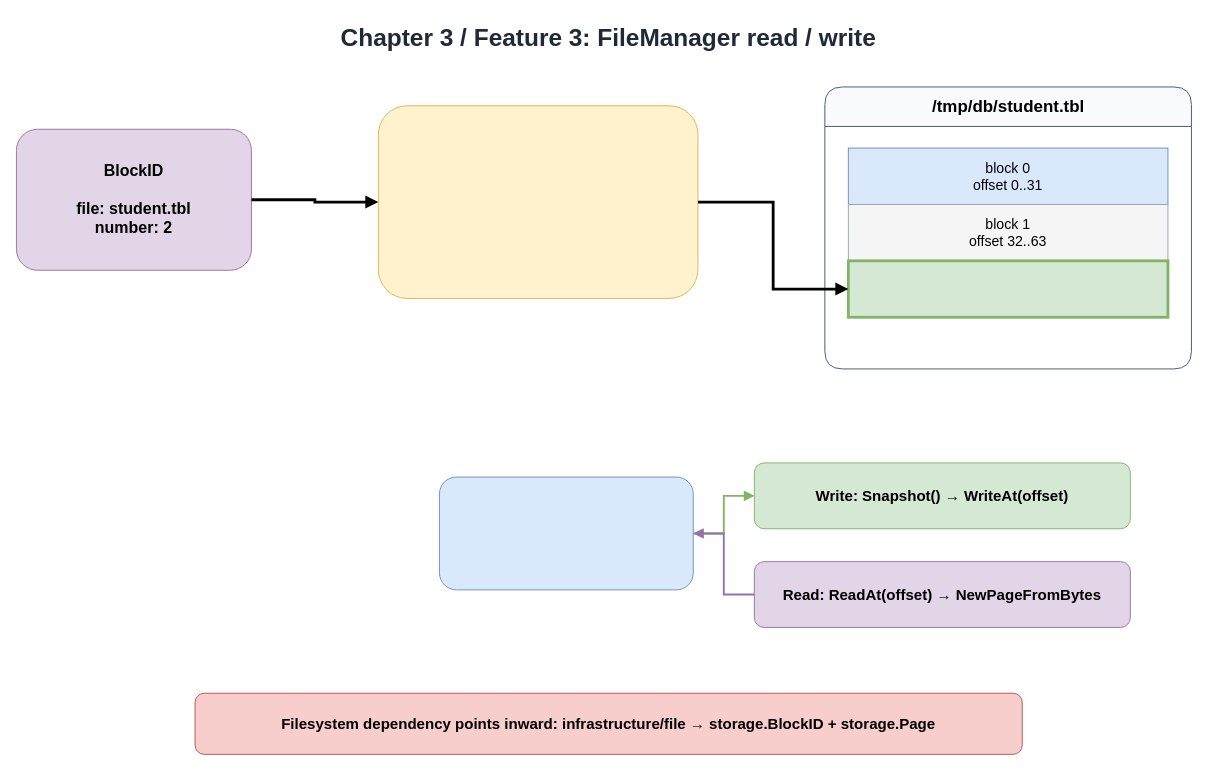
This 1208x771 diagram has some shape labels left out. Here are the shapes that lost their labels. From the top down, the centre of each, then its label:
At point 537,201: "FileManager directory: /tmp/db block size: 32 bytes offset = 2 × 32 = 64".
At point 1007,288: "block 2 offset 64..95".
At point 566,533: "Page capacity: 32 bytes".
